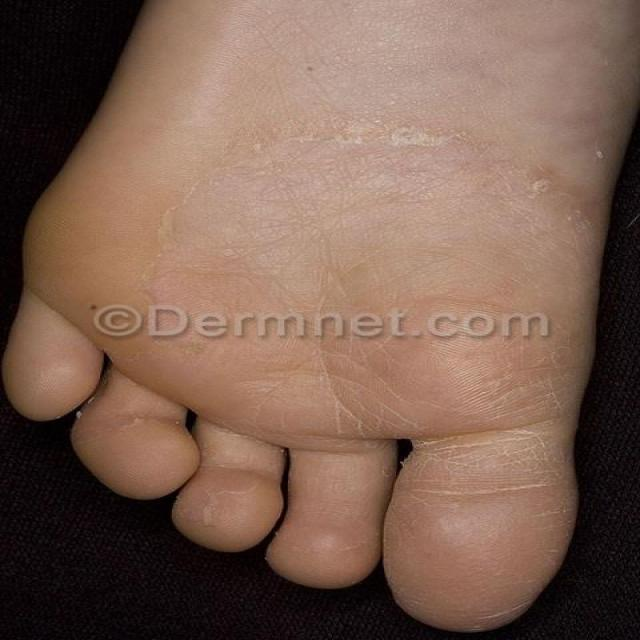Eczema: (126, 106, 603, 496)
